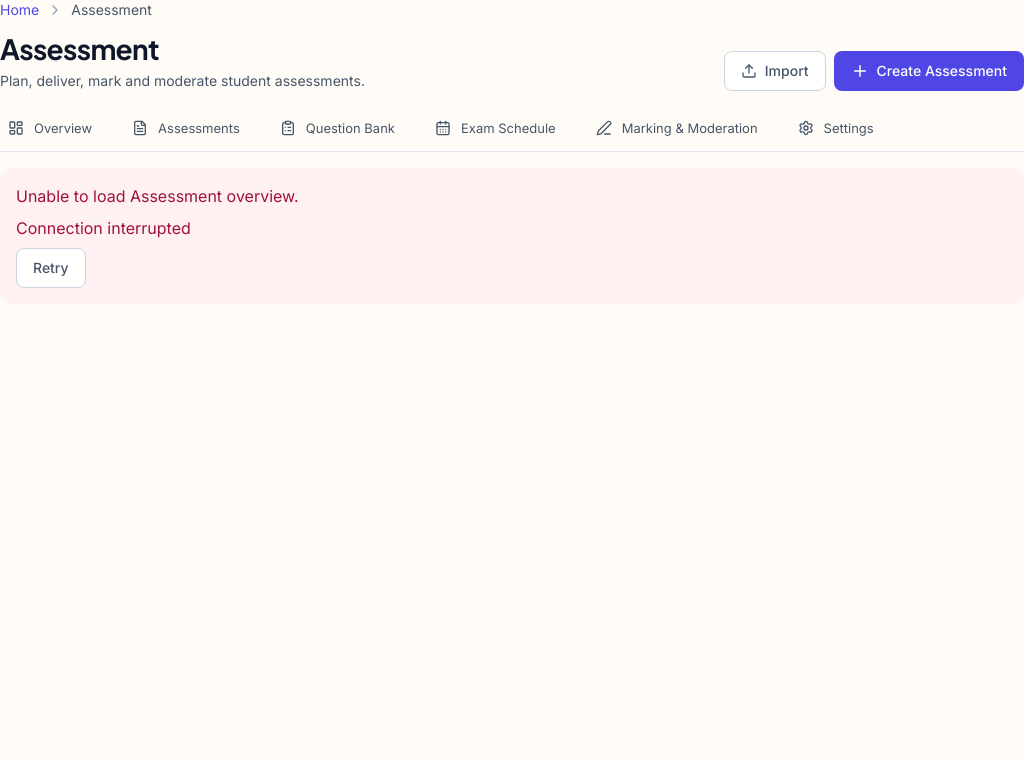
it: Assessment V2 ownership › keeps navigation available on API failure and retries
Expected: the message "Unable to load Assessment overview. Connection interrupted Retry" is shown, 0,168 -> 1023,304
Expected: the navigation bar named "Assessment sections" is shown, 0,107 -> 1023,152
What coordinates should you click on to do the following:
click the button "Retry"
I would click on:
 (51, 268)
Its box is 16,248 -> 86,288.
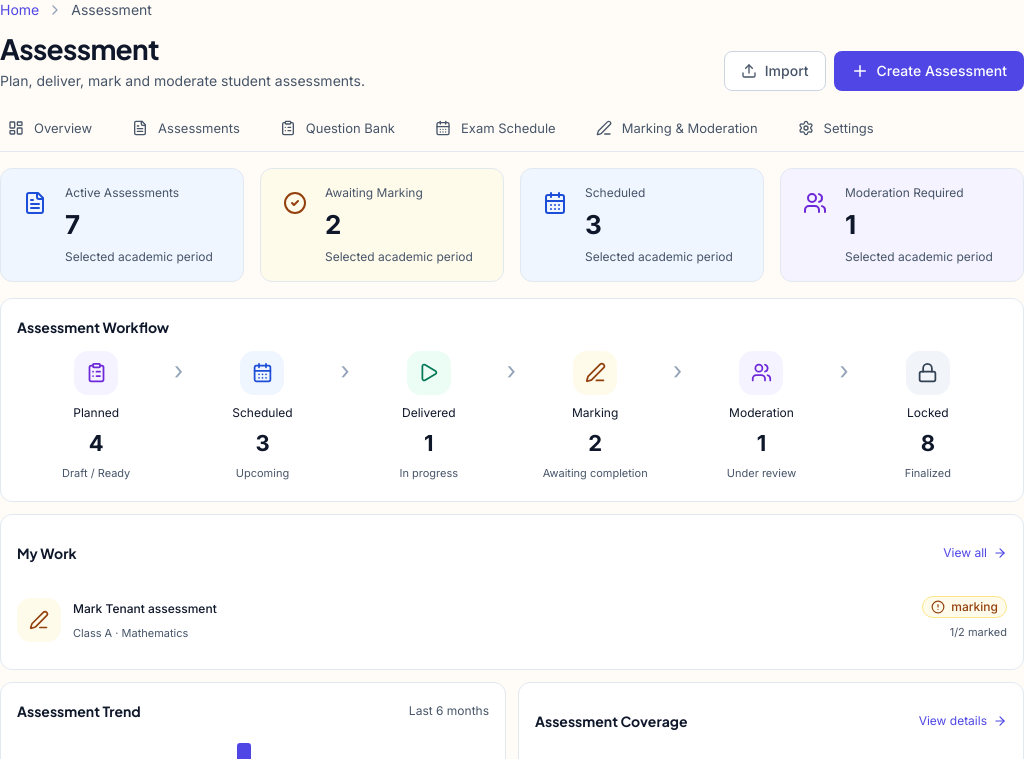
Now the heading "Assessment Workflow" is shown, box 17,315 -> 169,339
